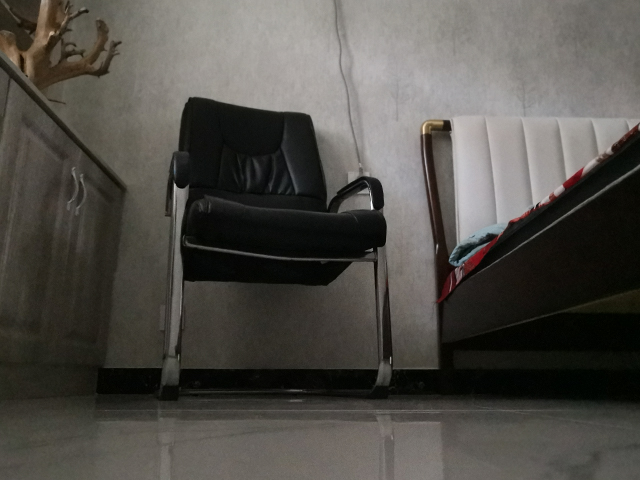bed: (417, 112, 640, 396)
cabinet: (1, 50, 128, 401)
stool: (151, 94, 397, 402)
